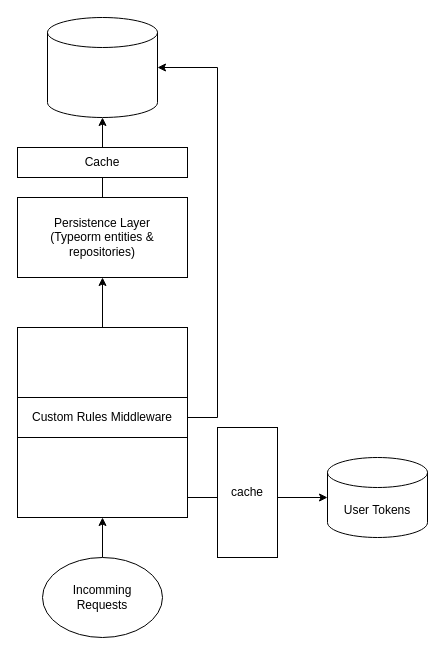
The diagram is 445 pixels wide and 655 high, and some of its shapes have lost their labels. The shapes that lost their labels are listed below. From the top down, each one's box as (x1, y1, x2, y2) in pixels, then its label:
(46, 16, 158, 118): Events, Users, Subscriptions
(16, 326, 188, 398): Express endpoints
(16, 436, 188, 518): API middleware (authentication, rate limiter, rules, etc)
